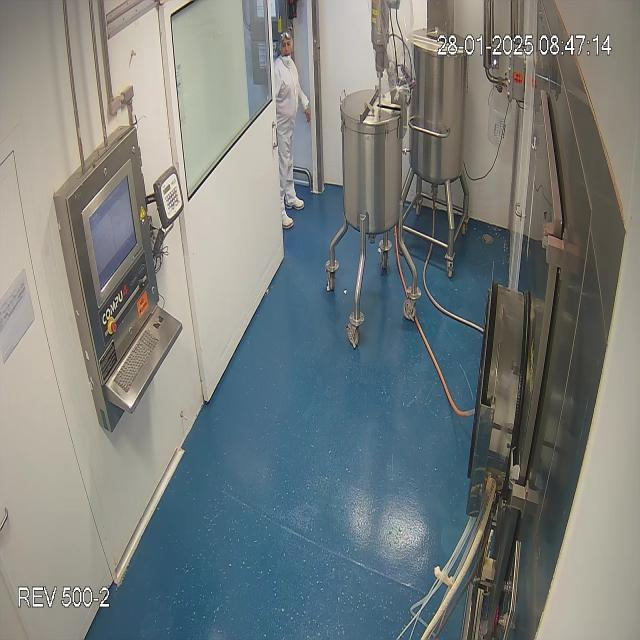bota: (280, 196, 306, 228)
pessoa: (274, 31, 312, 227)
touca: (276, 32, 294, 53)
